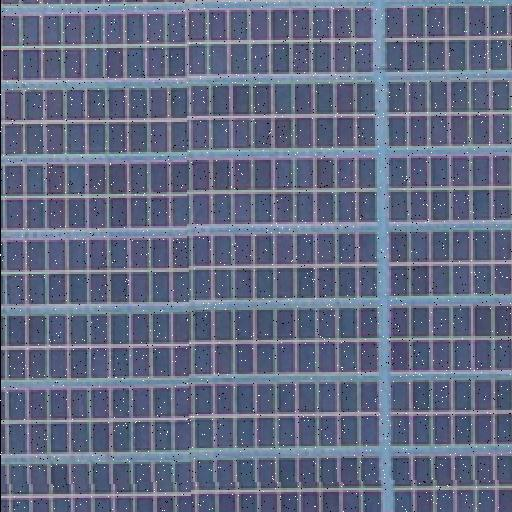solar-panel: (0, 229, 376, 307), (0, 380, 378, 456), (0, 6, 372, 82), (0, 307, 376, 381), (1, 155, 375, 229), (1, 83, 375, 157), (0, 457, 378, 511), (384, 2, 512, 74), (385, 300, 511, 372), (384, 77, 512, 147), (384, 152, 512, 220), (388, 377, 512, 447), (385, 228, 511, 296), (388, 452, 512, 512), (1, 1, 271, 7)
